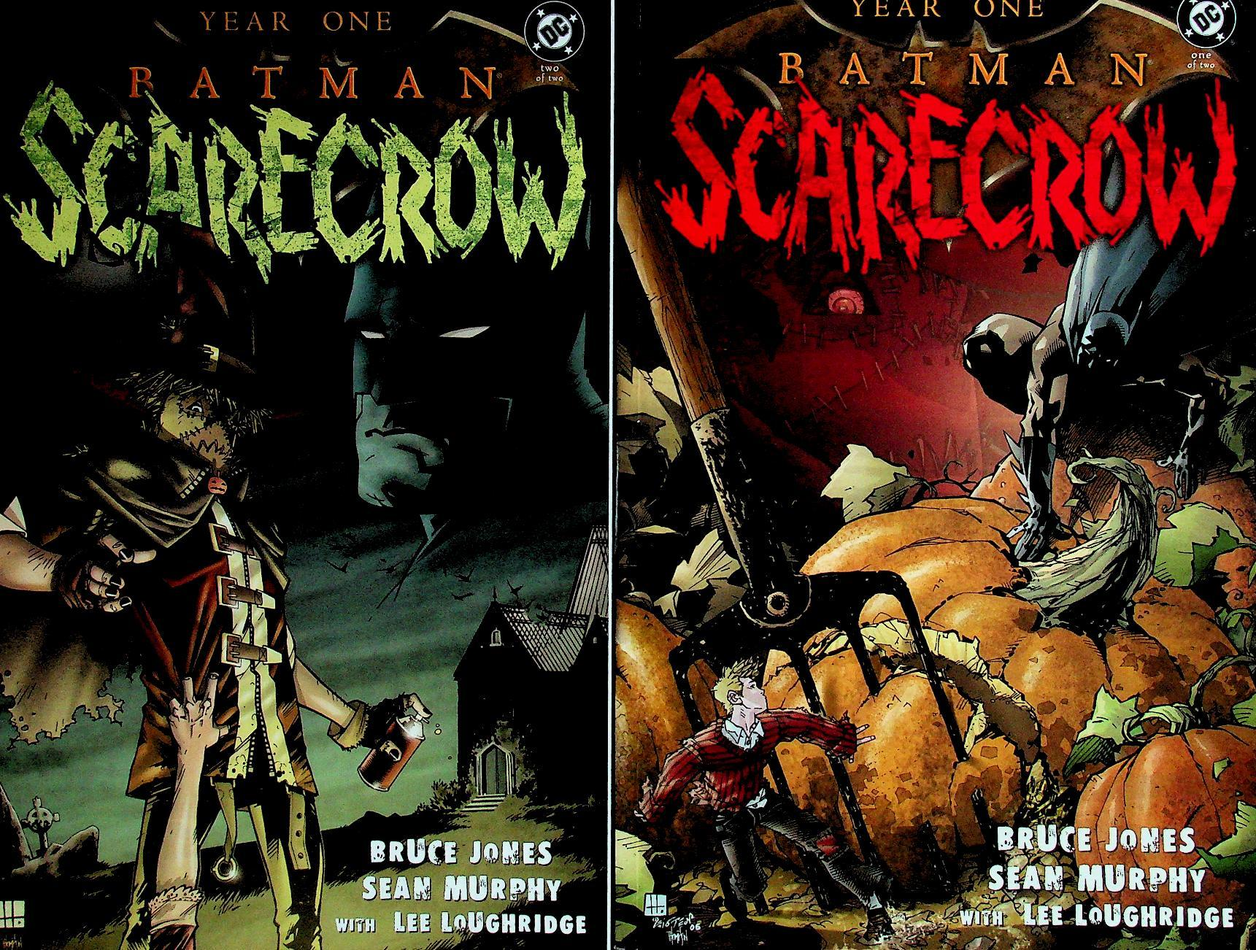comic: (614, 0, 1255, 949), (0, 2, 610, 949)
